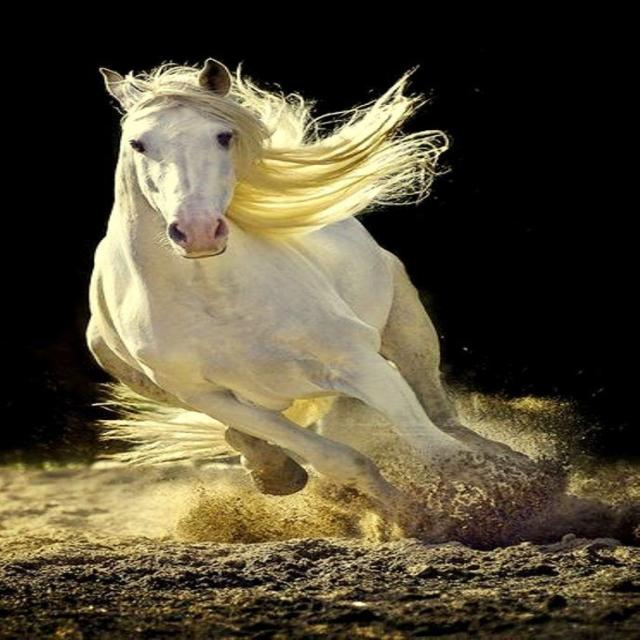horse: (84, 57, 571, 541)
